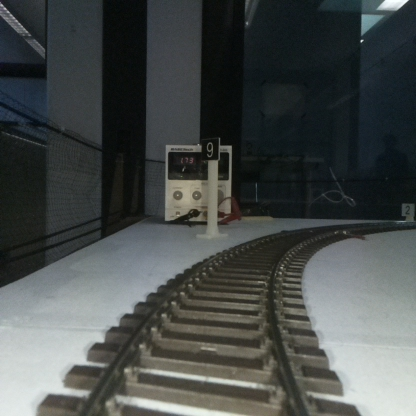black-info-9: (202, 137, 219, 237)
